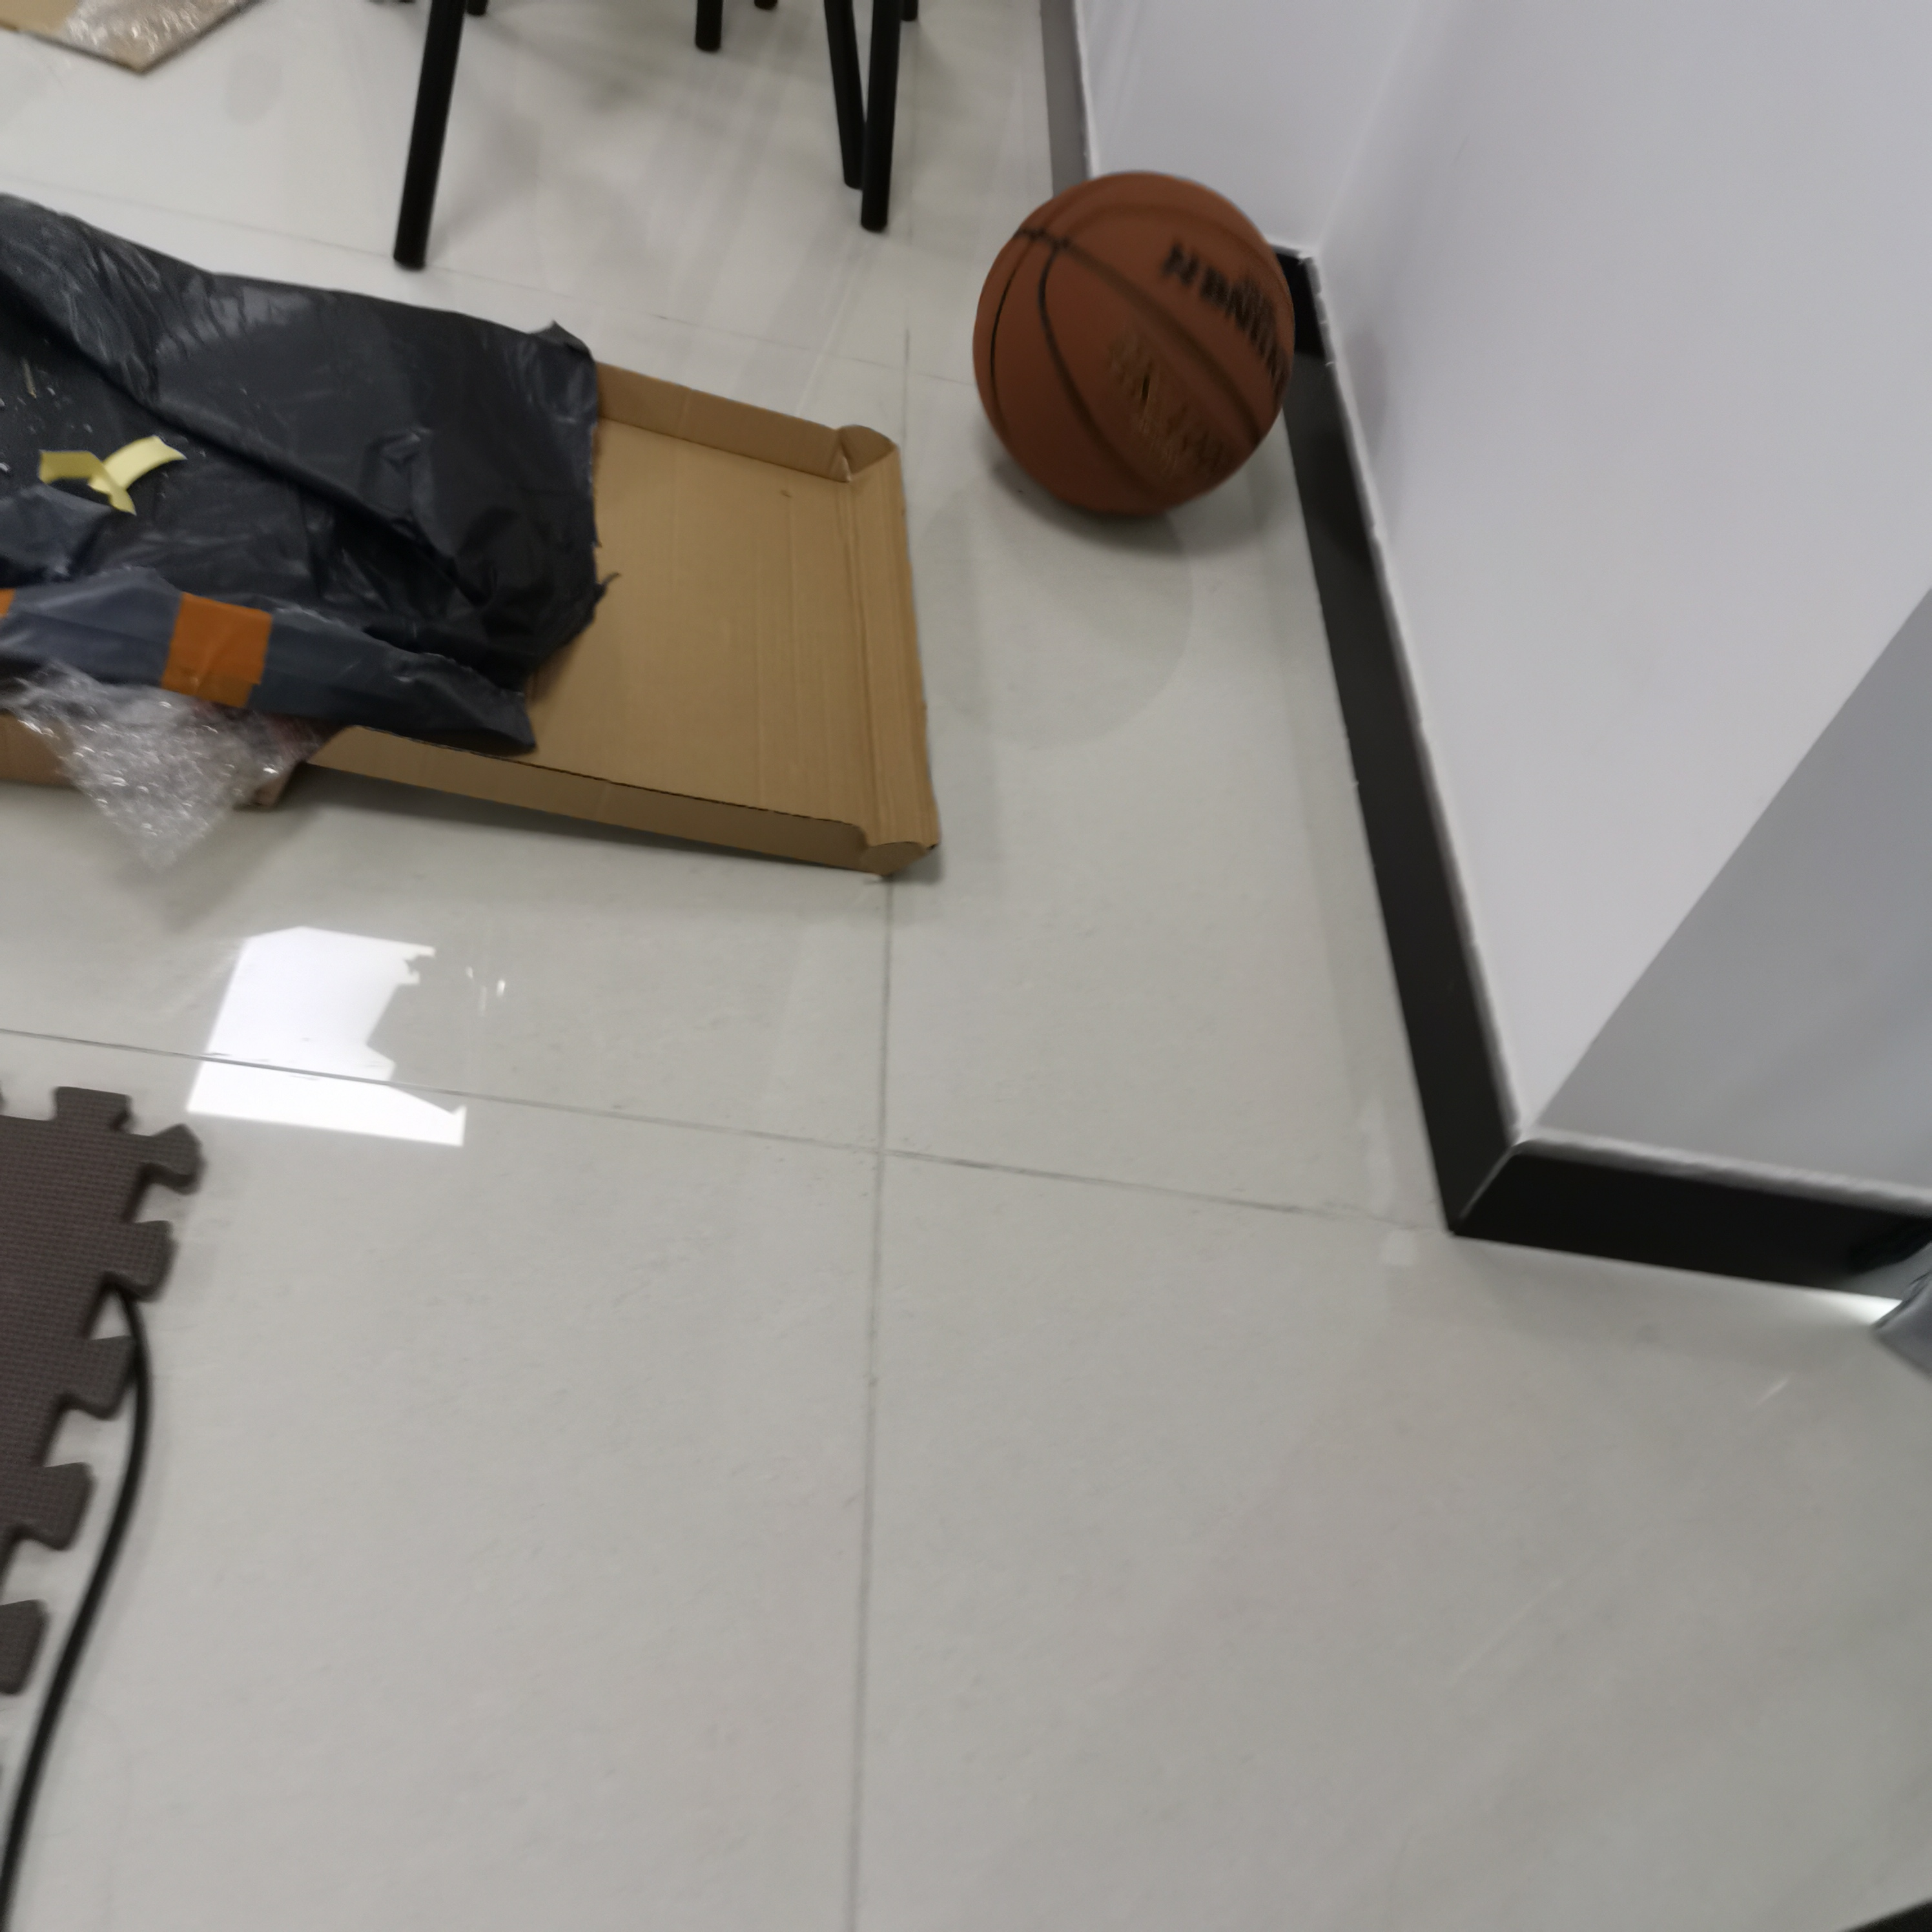basketball: (975, 173, 1297, 518)
